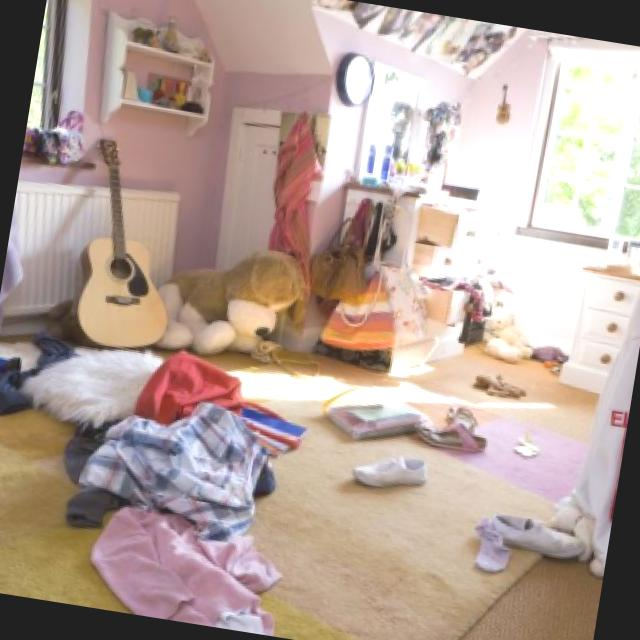mess: (0, 286, 633, 640), (322, 180, 526, 360), (346, 105, 546, 239)
